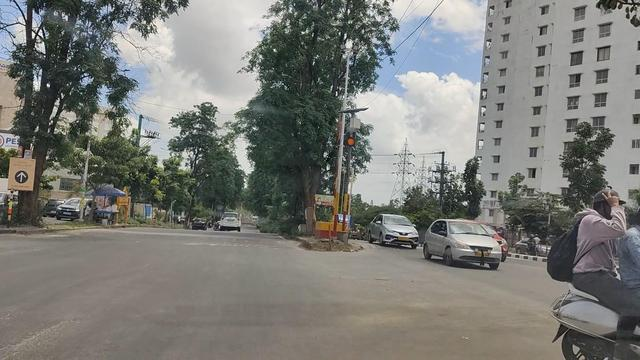LMV: (429, 219, 500, 263), (368, 213, 418, 248)
